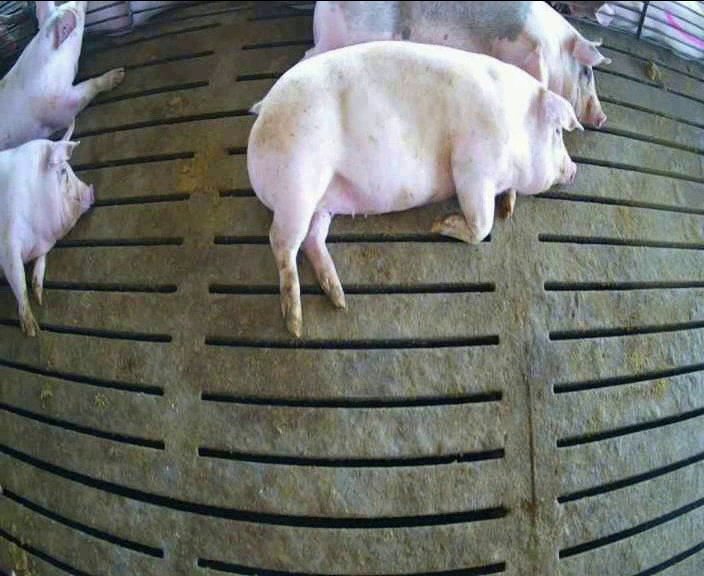pig: (247, 43, 579, 336), (305, 2, 607, 127), (0, 116, 93, 335), (0, 2, 124, 150)
